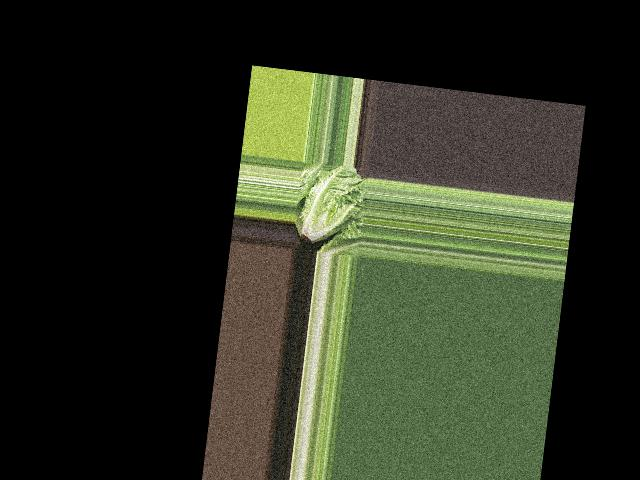lettuce: (291, 161, 364, 252)
